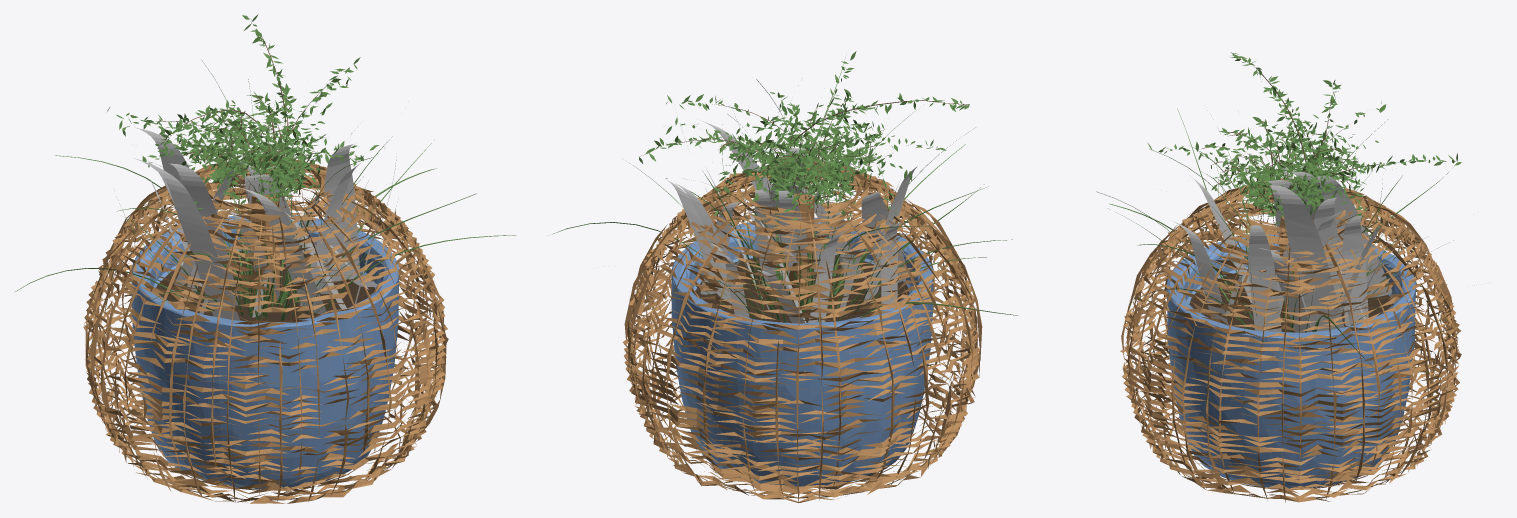
File: decor.glb
3 renders of one model, left to right at view 1: azimuth 30°, elevation 25°; view 2: azimuth 150°, elevation 25°; view 3: azimuth 270°, elevation 25°, orthographic. The views are drawn at different scales.
Visible parts, largest first — view 1: Vase_wicker, Desk_pot, Desk_leaves, Vase_leaf, Bush_plant, Desk_soil, Vase_stem; view 2: Vase_wicker, Desk_pot, Desk_leaves, Vase_leaf, Bush_plant, Desk_soil, Vase_stem; view 3: Vase_wicker, Desk_pot, Desk_leaves, Vase_leaf, Bush_plant, Desk_soil, Vase_stem.
Part boxes in pixels (<box>): Vase_wicker: <box>83,158,448,503</box>; Desk_pot: <box>131,214,398,488</box>; Desk_leaves: <box>133,127,381,320</box>; Vase_leaf: <box>107,14,379,210</box>; Bush_plant: <box>14,59,516,320</box>; Desk_soil: <box>156,250,374,321</box>; Vase_stem: <box>148,16,352,207</box>; Vase_wicker: <box>622,161,982,502</box>; Desk_pot: <box>671,218,933,486</box>; Desk_leaves: <box>666,119,917,323</box>; Vase_leaf: <box>639,51,969,220</box>; Bush_plant: <box>552,57,1017,322</box>; Desk_soil: <box>695,255,909,322</box>; Vase_stem: <box>639,90,969,216</box>; Vase_wicker: <box>1120,179,1461,502</box>; Desk_pot: <box>1166,234,1415,488</box>; Desk_leaves: <box>1171,150,1392,332</box>; Vase_leaf: <box>1147,53,1461,231</box>; Bush_plant: <box>1096,108,1453,366</box>; Desk_soil: <box>1189,268,1393,332</box>; Vase_stem: <box>1202,52,1455,225</box>.
Size of the model in its own units: 1.29 by 1 by 1.09.
